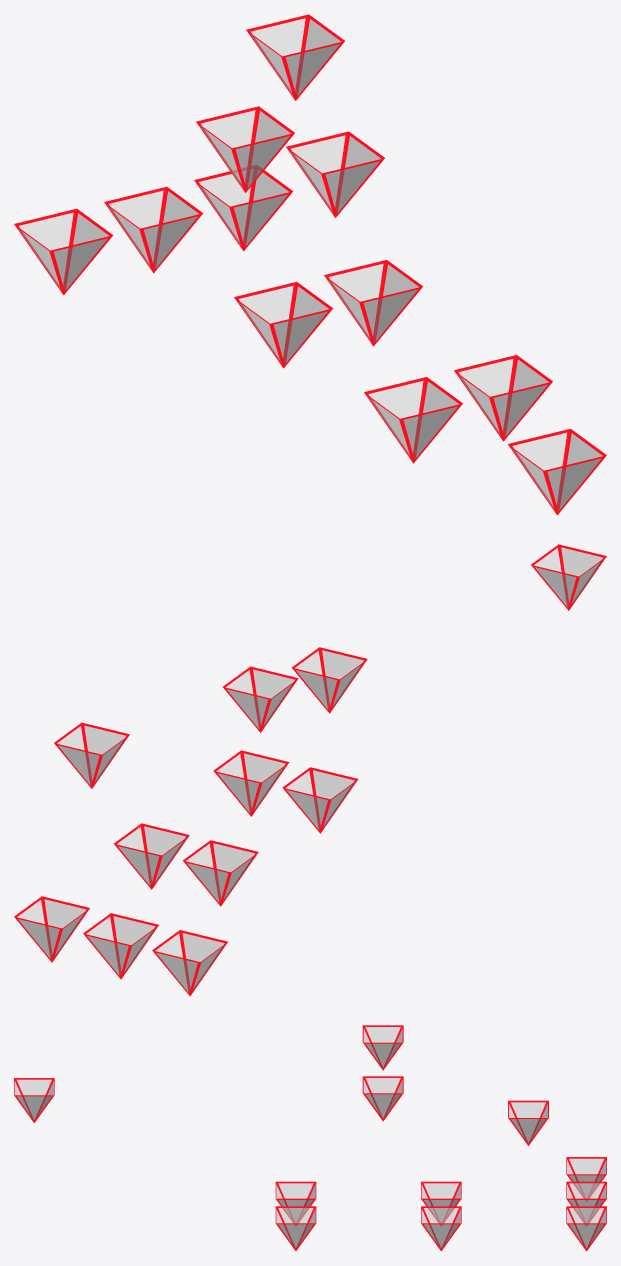
The model's file is (1)M GSpike.fbx.
3 renders of one model, top to bottom at view 1: azimuth 30°, elevation 25°; view 2: azimuth 150°, elevation 25°; view 3: azimuth 270°, elevation 25°, orthographic. The views are drawn at different scales.
Visible parts, largest first — view 1: UdDownSpike.012, UdDownSpike.010, UdDownSpike.001, UdDownSpike.002, UdDownSpike.008, UdDownSpike.004, UdDownSpike.005, UdDownSpike.009, UdDownSpike.011, UdDownSpike.006, UdDownSpike.007; view 2: UdDownSpike.001, UdDownSpike.004, UdDownSpike.006, UdDownSpike.008, UdDownSpike.010, UdDownSpike.005, UdDownSpike.007, UdDownSpike.002, UdDownSpike.009, UdDownSpike.012, UdDownSpike.011; view 3: UdDownSpike.006, UdDownSpike.004, UdDownSpike.005, UdDownSpike.009, UdDownSpike.007, UdDownSpike.008, UdDownSpike.010, UdDownSpike.001, UdDownSpike.012, UdDownSpike.011, UdDownSpike.002.
Boxes of the visible parts, x1,y1,x2,y2 form: UdDownSpike.012: [104, 186, 203, 273]; UdDownSpike.010: [364, 377, 462, 463]; UdDownSpike.001: [508, 428, 606, 515]; UdDownSpike.002: [14, 208, 113, 295]; UdDownSpike.008: [324, 260, 422, 346]; UdDownSpike.004: [196, 106, 294, 192]; UdDownSpike.005: [286, 131, 384, 217]; UdDownSpike.009: [454, 355, 552, 441]; UdDownSpike.011: [234, 282, 332, 368]; UdDownSpike.006: [246, 14, 344, 100]; UdDownSpike.007: [194, 165, 292, 251]; UdDownSpike.001: [531, 544, 606, 610]; UdDownSpike.004: [291, 647, 367, 713]; UdDownSpike.006: [54, 722, 129, 788]; UdDownSpike.008: [114, 823, 189, 889]; UdDownSpike.010: [282, 767, 358, 833]; UdDownSpike.005: [223, 666, 298, 732]; UdDownSpike.007: [14, 896, 89, 962]; UdDownSpike.002: [152, 930, 227, 996]; UdDownSpike.009: [213, 750, 289, 816]; UdDownSpike.012: [83, 913, 158, 979]; UdDownSpike.011: [183, 840, 258, 906]; UdDownSpike.006: [508, 1100, 548, 1145]; UdDownSpike.004: [362, 1025, 403, 1070]; UdDownSpike.005: [362, 1076, 403, 1121]; UdDownSpike.009: [275, 1206, 316, 1250]; UdDownSpike.007: [566, 1206, 606, 1251]; UdDownSpike.008: [421, 1206, 461, 1251]; UdDownSpike.010: [275, 1181, 316, 1225]; UdDownSpike.001: [14, 1078, 54, 1123]; UdDownSpike.012: [566, 1181, 606, 1226]; UdDownSpike.011: [421, 1181, 461, 1226]; UdDownSpike.002: [566, 1157, 606, 1201].
Size of the model in its own units: 540 by 640 by 2040.
